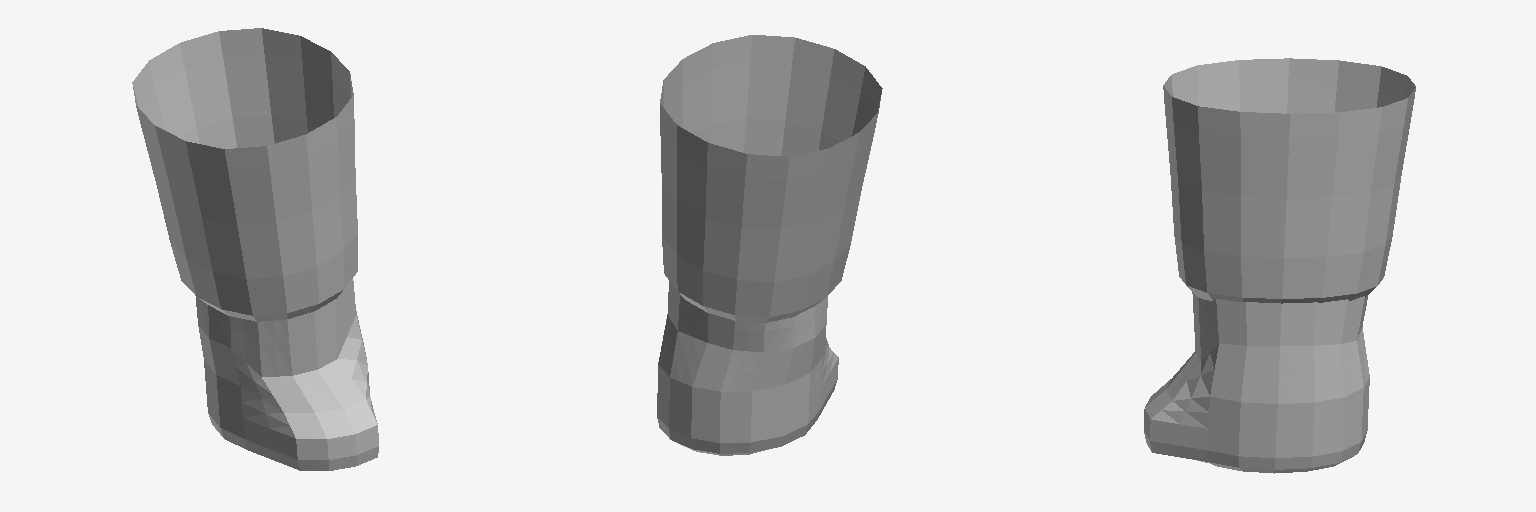
Rendered from PinkKnightLeg2.obj.
3 renders of one model, left to right at view 1: azimuth 30°, elevation 25°; view 2: azimuth 150°, elevation 25°; view 3: azimuth 270°, elevation 25°, orthographic.
Parts seen in each view (by area): view 1: KNIGHT Left_LEG Left_LEG1 meshes polySurface1 polySurface52, KNIGHT Left_LEG Left_LEG1 meshes polySurface51 polySurface1; view 2: KNIGHT Left_LEG Left_LEG1 meshes polySurface1 polySurface52, KNIGHT Left_LEG Left_LEG1 meshes polySurface51 polySurface1; view 3: KNIGHT Left_LEG Left_LEG1 meshes polySurface1 polySurface52, KNIGHT Left_LEG Left_LEG1 meshes polySurface51 polySurface1.
Part boxes in pixels (x1,y1,x2,y2): KNIGHT Left_LEG Left_LEG1 meshes polySurface1 polySurface52: (132, 28, 357, 321); KNIGHT Left_LEG Left_LEG1 meshes polySurface51 polySurface1: (196, 279, 378, 470); KNIGHT Left_LEG Left_LEG1 meshes polySurface1 polySurface52: (660, 35, 882, 322); KNIGHT Left_LEG Left_LEG1 meshes polySurface51 polySurface1: (657, 281, 838, 455); KNIGHT Left_LEG Left_LEG1 meshes polySurface1 polySurface52: (1163, 58, 1415, 303); KNIGHT Left_LEG Left_LEG1 meshes polySurface51 polySurface1: (1144, 292, 1369, 473).
Bounding box in the file's own units: 18.35 × 32.98 × 22.49.